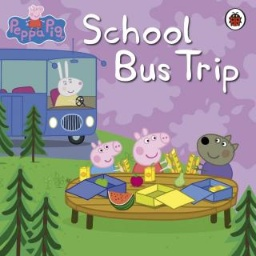Peppa: (130, 127, 172, 175)
